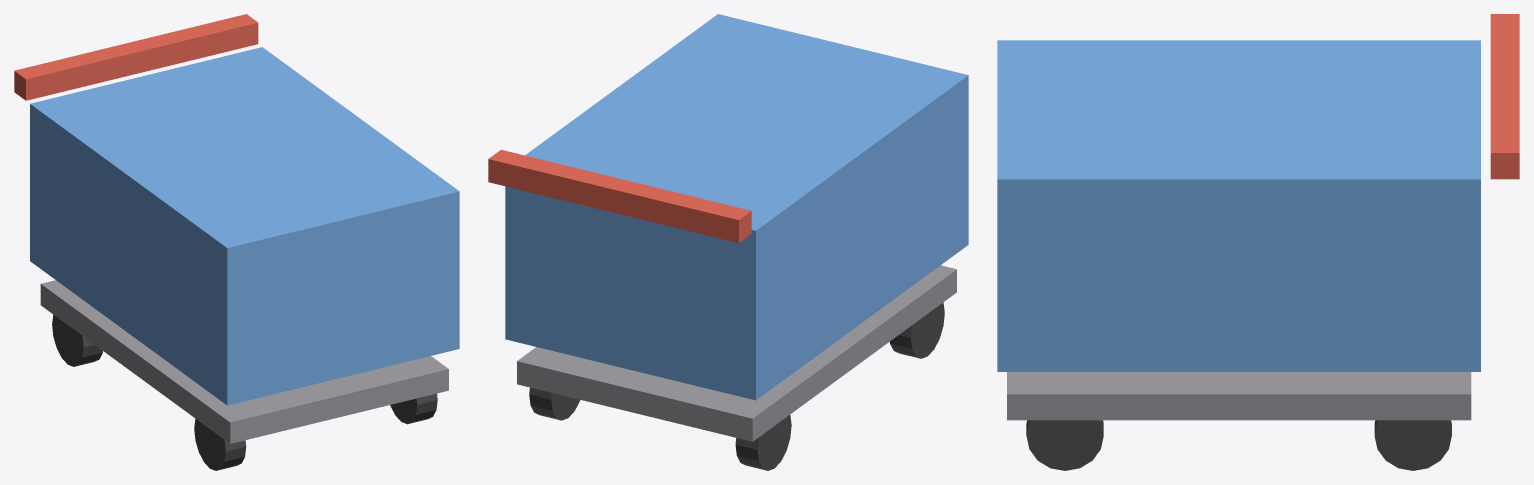
File: body.glb
3 views of the same model, side by side, from view 1: azimuth 30°, elevation 25°; view 2: azimuth 150°, elevation 25°; view 3: azimuth 270°, elevation 25° (orthographic). The views are drawn at different scales.
Visible parts, largest first — view 1: Body, WheelFR, WheelBR, WheelFL; view 2: Body, WheelBR, WheelFR, WheelBL; view 3: Body, WheelFL, WheelBL.
Part boxes in pixels (box(x1,y1,x2,y2)): Body: box(14, 14, 459, 443); WheelFR: box(194, 418, 246, 470); WheelBR: box(52, 315, 102, 366); WheelFL: box(390, 393, 437, 424); Body: box(488, 14, 968, 441); WheelBR: box(735, 415, 791, 470); WheelFR: box(890, 302, 944, 358); WheelBL: box(529, 387, 580, 420); Body: box(997, 14, 1519, 420); WheelFL: box(1026, 420, 1103, 470); WheelBL: box(1374, 420, 1451, 470).
Size of the model in its own units: 0.34 by 0.37 by 0.54.
